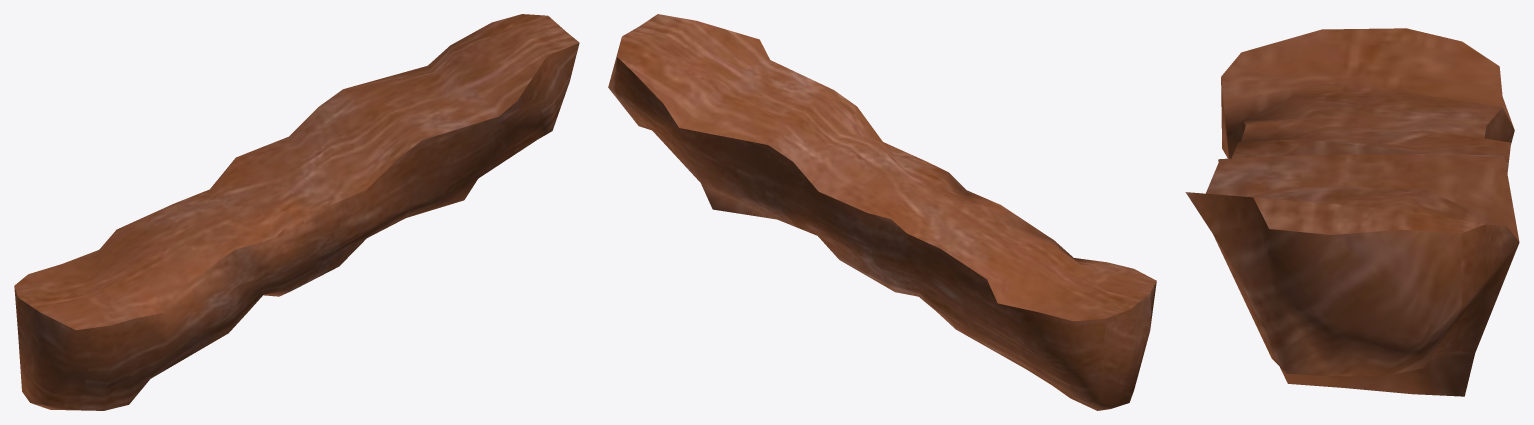
The model's file is Canyon_Rock_Platforms_8.glb.
3 renders of one model, left to right at view 1: azimuth 30°, elevation 25°; view 2: azimuth 150°, elevation 25°; view 3: azimuth 270°, elevation 25°, orthographic. The views are drawn at different scales.
Parts seen in each view (by area): view 1: Canyon_Rock_Platforms_8_0; view 2: Canyon_Rock_Platforms_8_0; view 3: Canyon_Rock_Platforms_8_0.
Boxes of the visible parts, left/top/right/bottom form: Canyon_Rock_Platforms_8_0: left=14, top=14, right=579, bottom=410; Canyon_Rock_Platforms_8_0: left=608, top=14, right=1156, bottom=410; Canyon_Rock_Platforms_8_0: left=1185, top=28, right=1519, bottom=396.
Size of the model in its own units: 20.36 by 9.77 by 5.68.
Materials: 1 (1 with a texture image).
